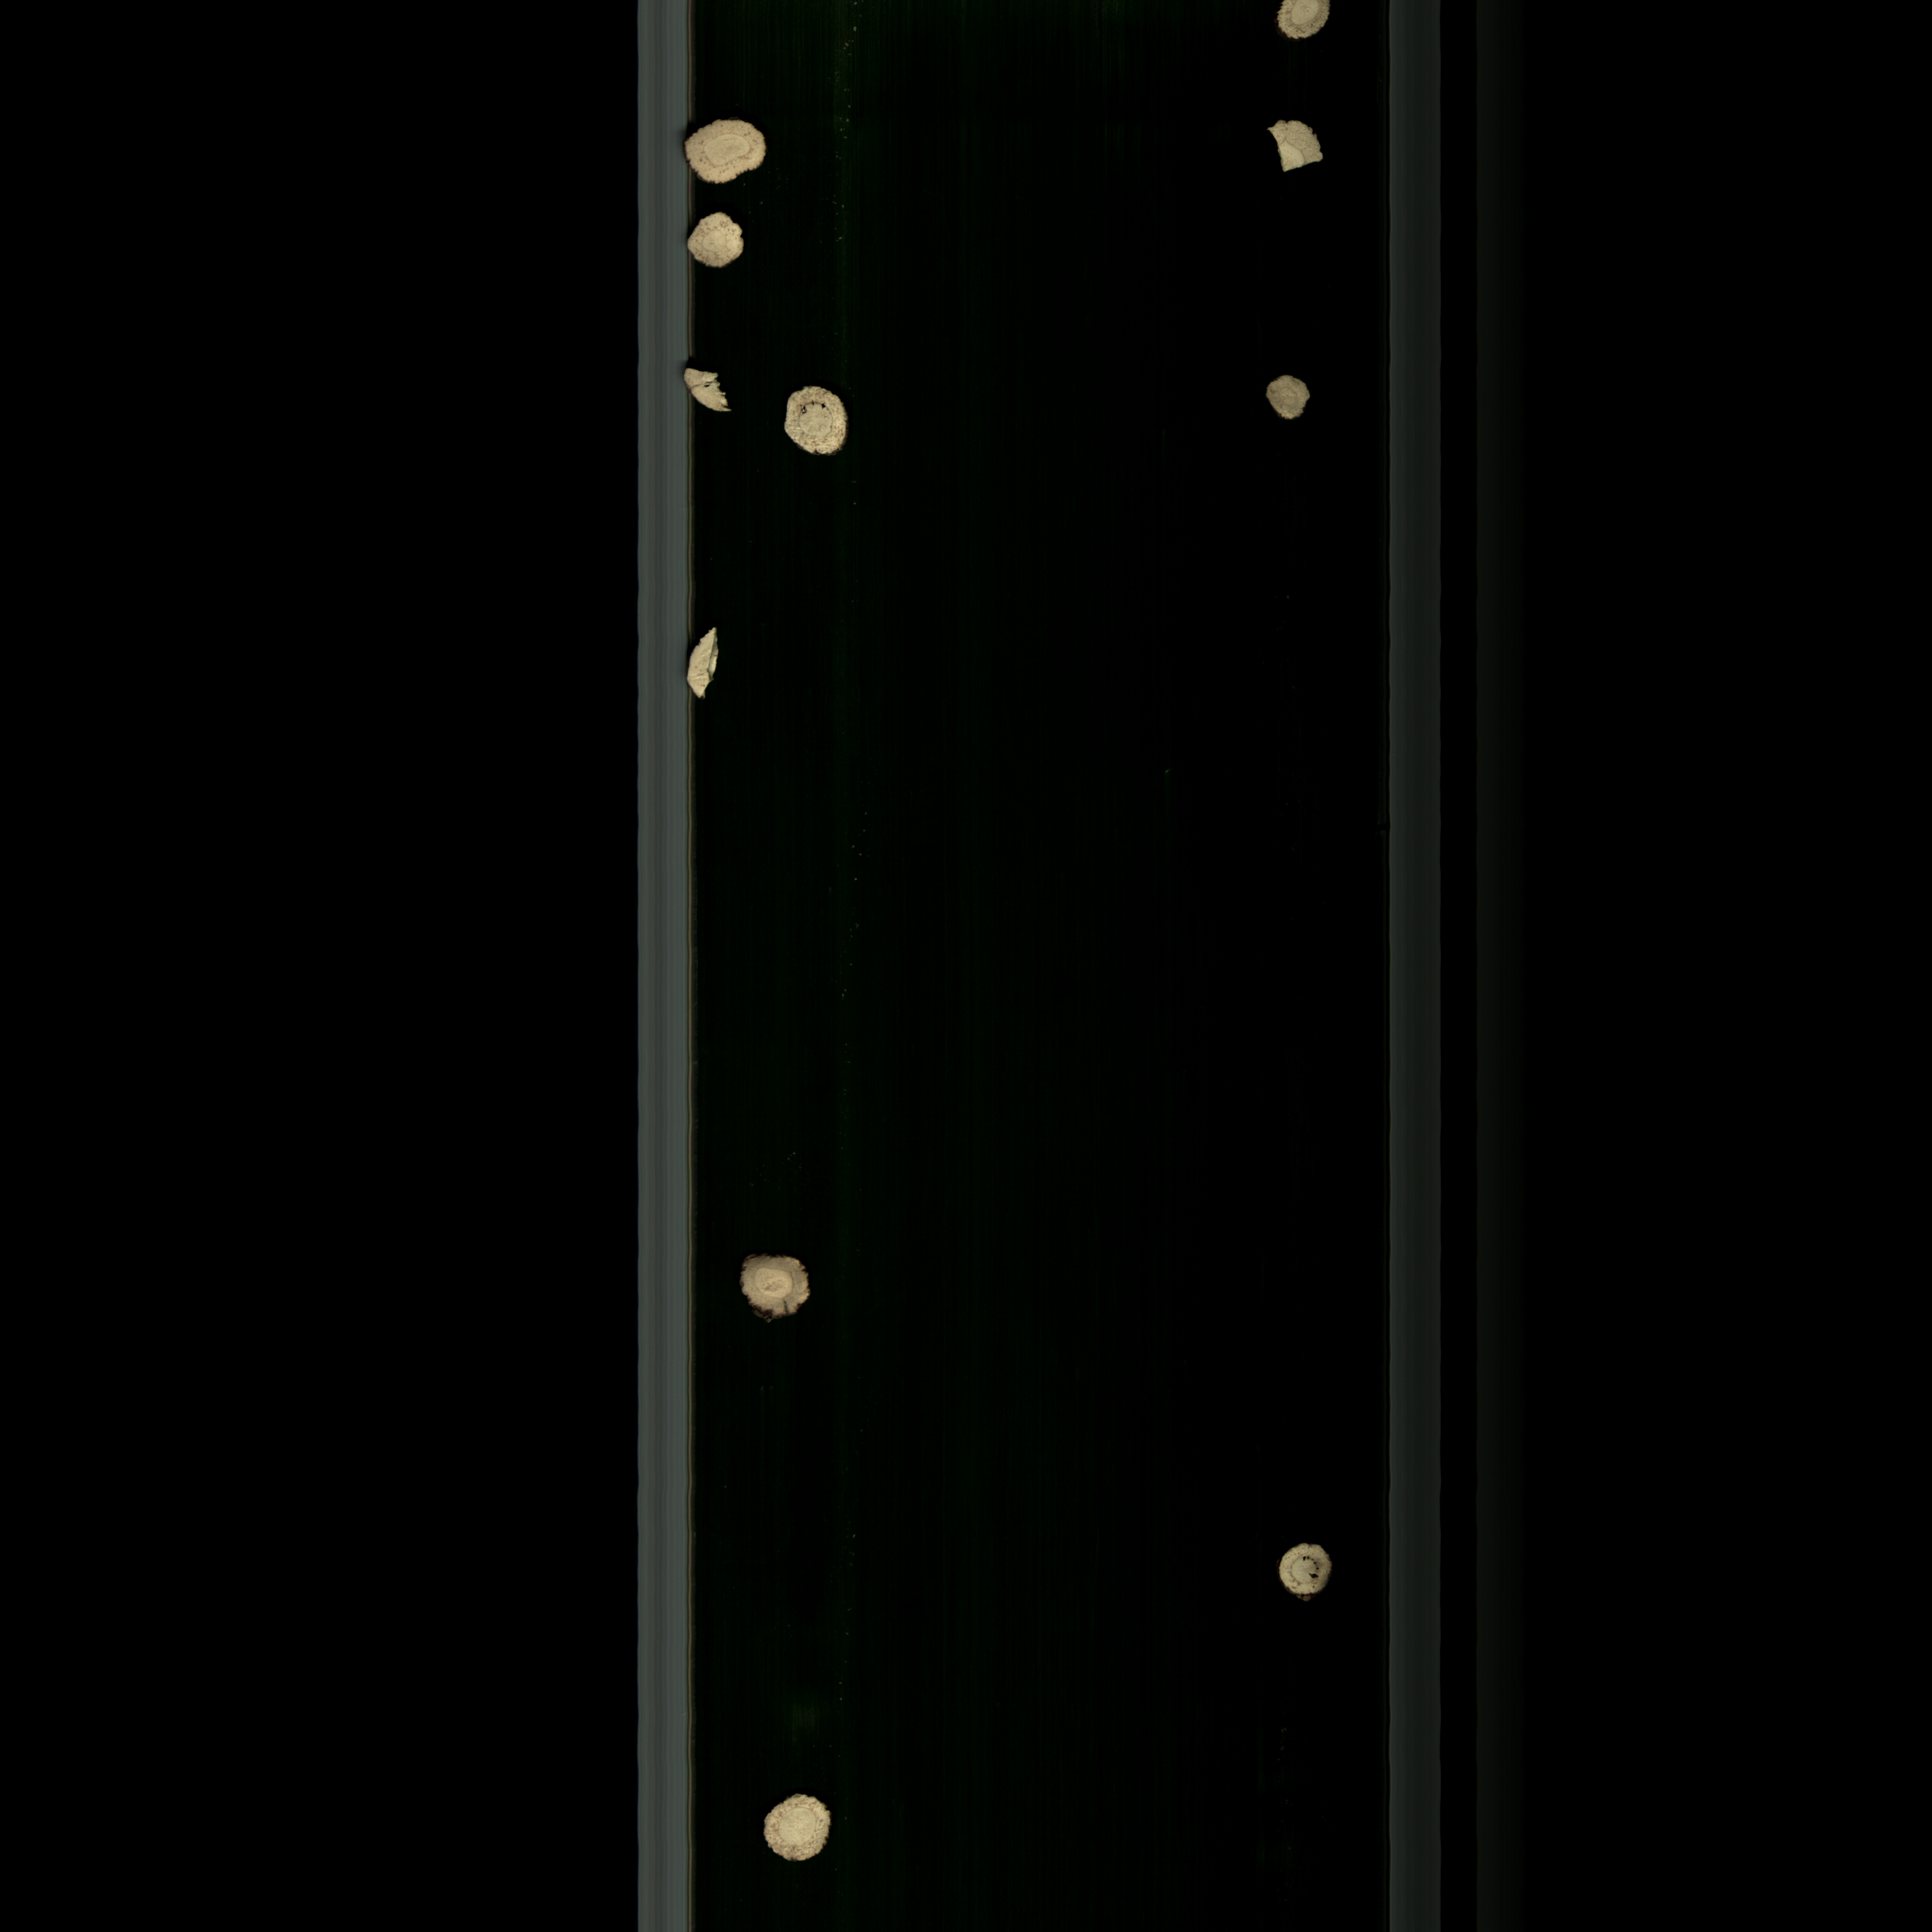distortion: (681, 617, 734, 706)
dreg: (1256, 111, 1336, 189), (678, 357, 736, 425)
moldy: (722, 1242, 830, 1336), (766, 379, 858, 465), (678, 211, 761, 281), (1269, 1536, 1336, 1612), (1260, 364, 1322, 430)
